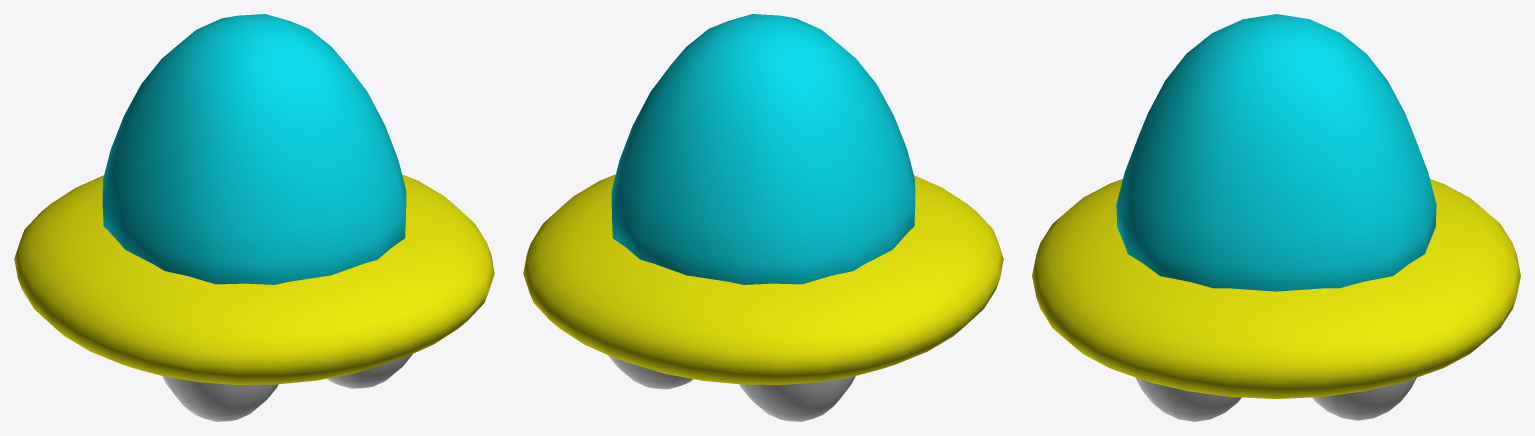
File: Player.fbx
3 renders of one model, left to right at view 1: azimuth 30°, elevation 25°; view 2: azimuth 150°, elevation 25°; view 3: azimuth 270°, elevation 25°, orthographic. The views are drawn at different scales.
Visible parts, largest first — view 1: pCube2, pCube1, pCube7; view 2: pCube2, pCube1, pCube7; view 3: pCube2, pCube1, pCube7.
Boxes of the visible parts, left/top/right/bottom form: pCube2: left=102, top=14, right=406, bottom=284; pCube1: left=14, top=174, right=494, bottom=384; pCube7: left=162, top=354, right=412, bottom=421; pCube2: left=611, top=14, right=915, bottom=284; pCube1: left=523, top=174, right=1003, bottom=384; pCube7: left=608, top=355, right=855, bottom=421; pCube2: left=1116, top=14, right=1436, bottom=291; pCube1: left=1032, top=179, right=1520, bottom=398; pCube7: left=1135, top=377, right=1416, bottom=421.
Size of the model in its own units: 0.8492 by 0.6928 by 0.8492.
